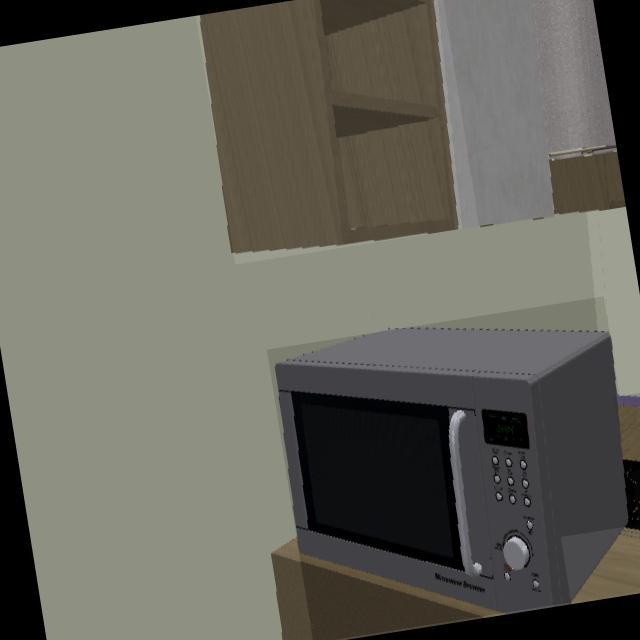countertop: (572, 528, 640, 603), (618, 397, 640, 463)
microwave: (276, 330, 628, 621)
shelf: (199, 0, 479, 254)
